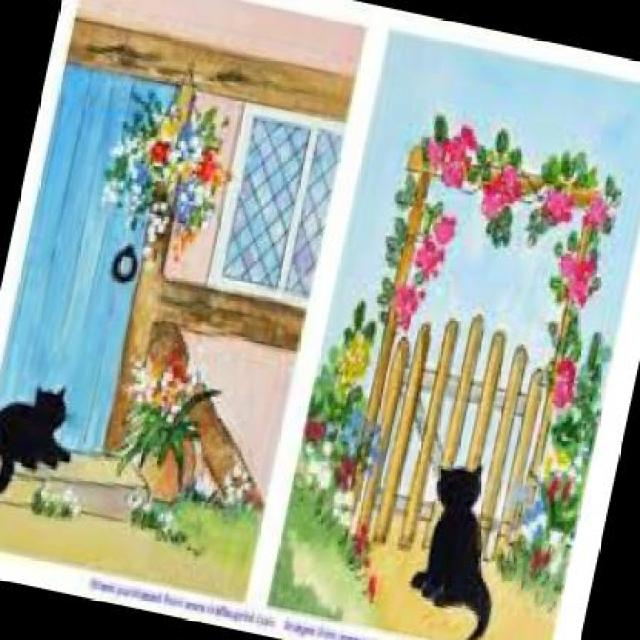animals: (390, 442, 528, 638), (0, 366, 82, 525)
